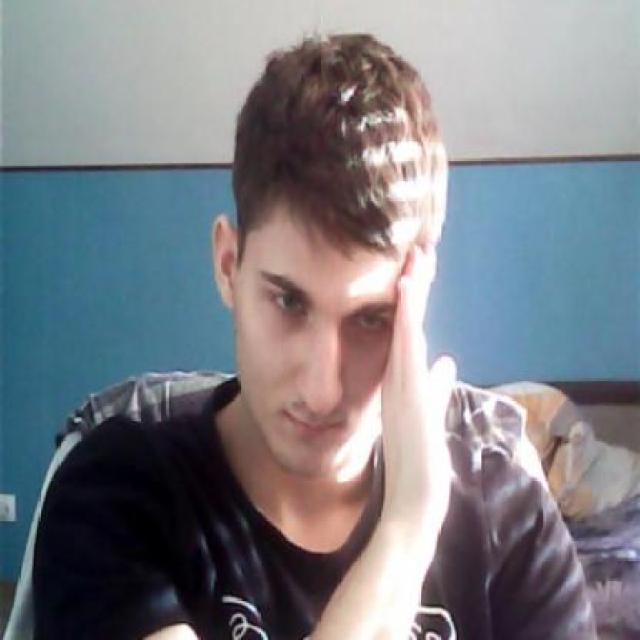awake: (269, 291, 309, 317), (355, 312, 390, 334)
